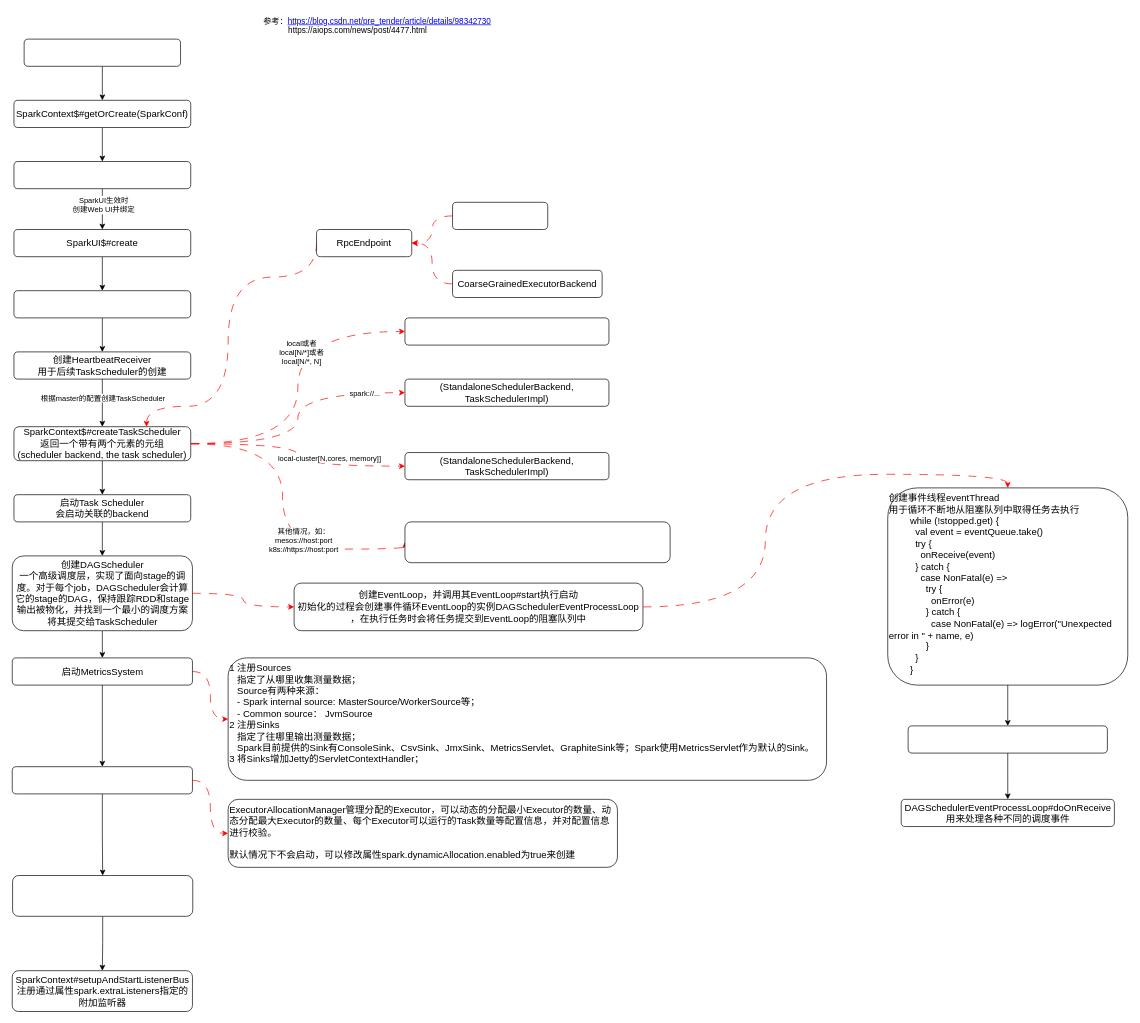
This 1140x1023 diagram has some shape labels left out. The centre of each missing label's shape, as x and y in pixels:
"(LocalSchedulerBackend, TaskSchedulerImpl)" belongs at point (506, 331).
"DAGSchedulerEventProcessLoop#onReceive" belongs at point (1007, 739).
"LocalEndpoint" belongs at point (500, 216).
"new SparkContext(SparkConf, Boolean)" belongs at point (102, 175).
"SparkSession.Builder#getOrCreate" belongs at point (102, 52).
"创建并启动ContextCleaner 用于清理超出应用范围的RDD、ShuffleDependency和Broadcast对象" belongs at point (102, 895).
"创建并启动ExecutorAllocationManager" belongs at point (102, 780).
"加载Hadoop的配置" belongs at point (102, 304).
"根据masterUrl利用SPI加载对应的ExternalClusterManager，并得到相应的调度器后端和任务调度器" belongs at point (537, 542).
